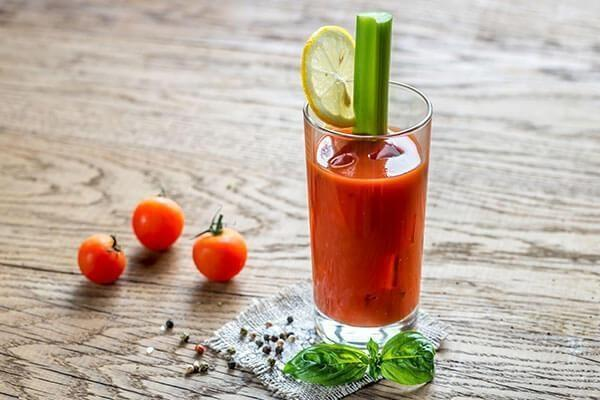glass-normal: (300, 78, 436, 351)
